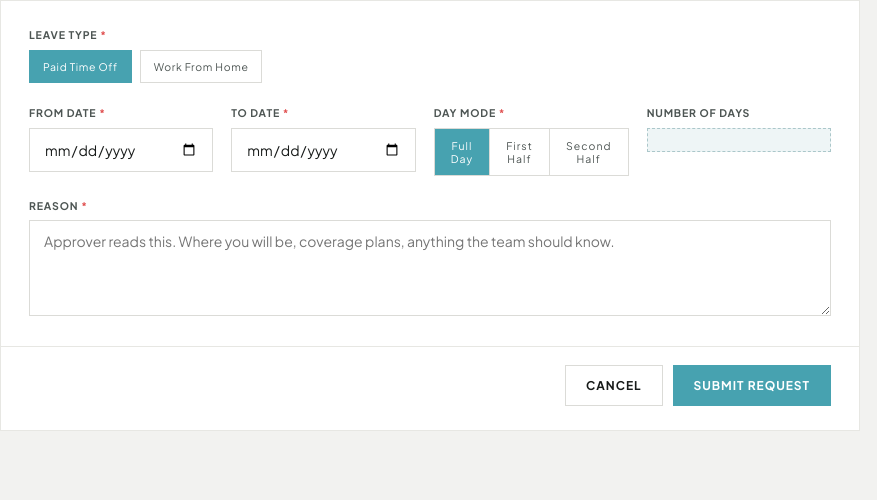
Test: components/feature/LeaveRequestForm › surfaces the validation rules on submit
This screenshot has width=877, height=500.
What coordinates should you click on to do the following:
click the button "Submit Request"
I would click on:
 (752, 386)
Its box is [672,365,831,406].
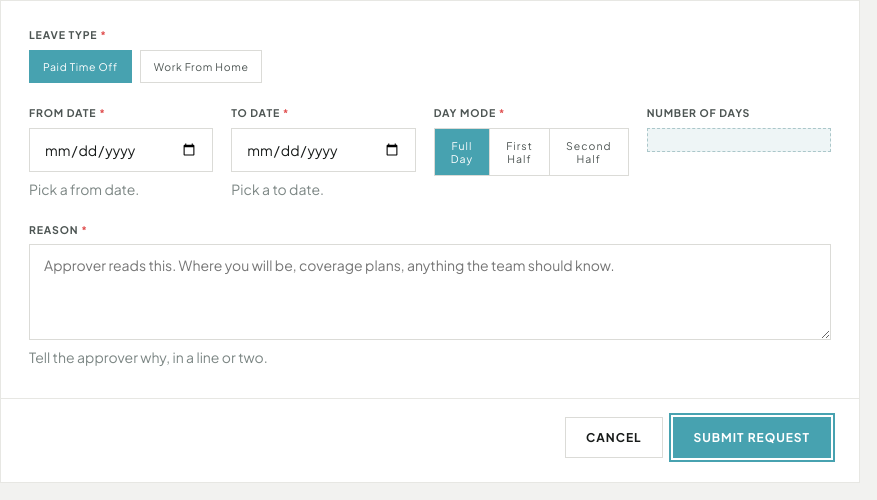
Expected: the text "Pick a from date." is shown, [29,180,139,198]
Expected: the text "Pick a to date." is shown, [231,180,324,198]
Expected: the text "Tell the approver why, in a line or two." is shown, [29,348,268,366]
